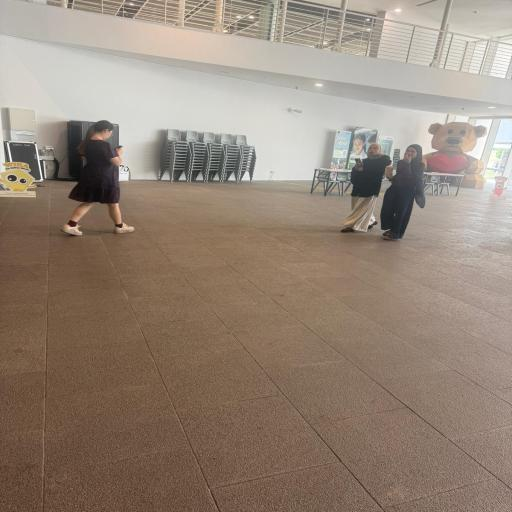person_left: (340, 143, 392, 233), (379, 144, 426, 241)
person_right: (60, 120, 134, 236)
